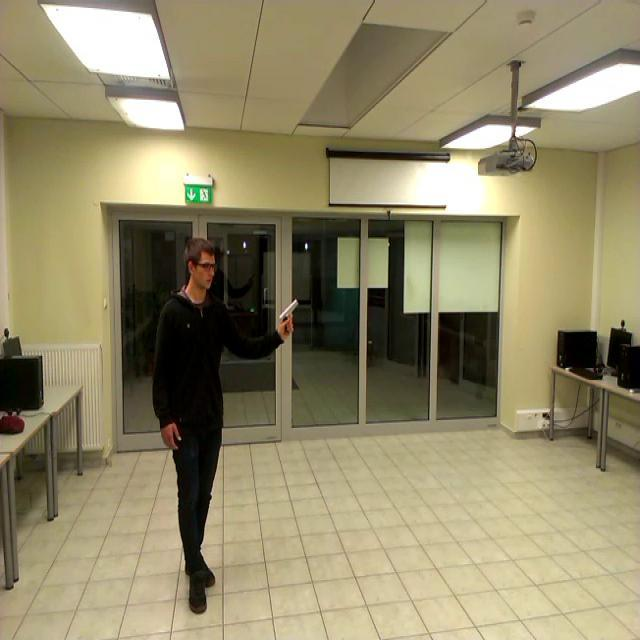Gun: (280, 298, 300, 333)
